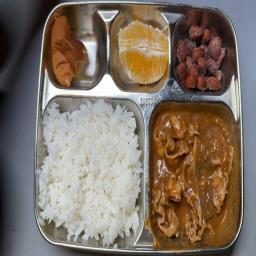100_beef: (153, 110, 231, 236)
100_nuts: (175, 20, 223, 93)
100_orange: (115, 20, 170, 85)
100_rice: (38, 98, 139, 245)
50_bread: (49, 11, 102, 88)
